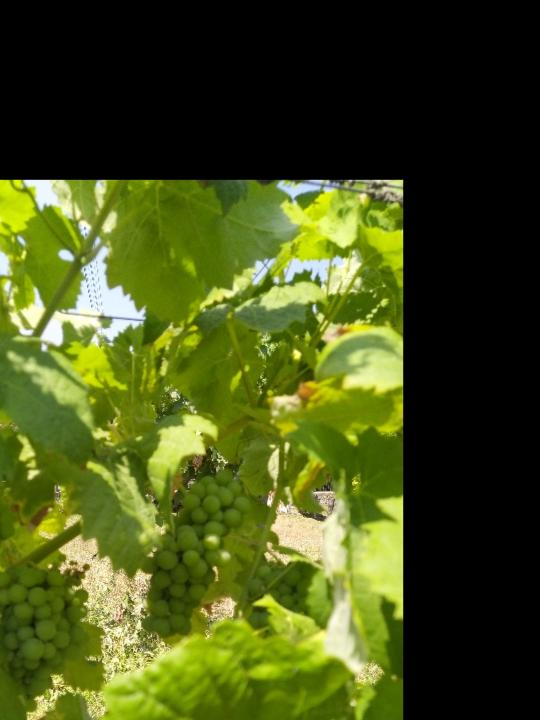grape: (139, 467, 254, 640), (0, 565, 89, 698)
